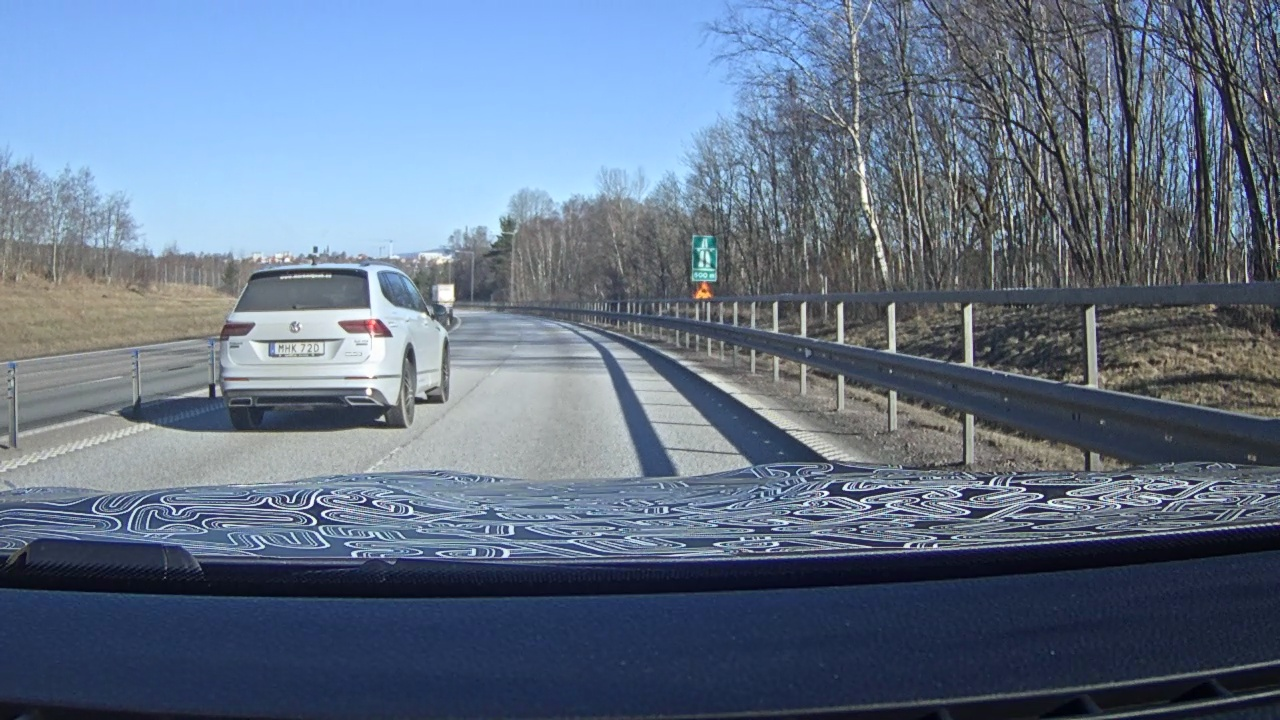Motorway_Begin: (693, 235, 716, 271)
